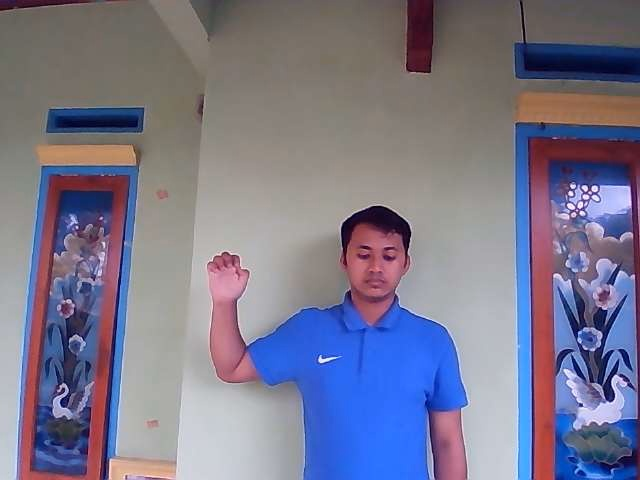E: (205, 251, 250, 300)
